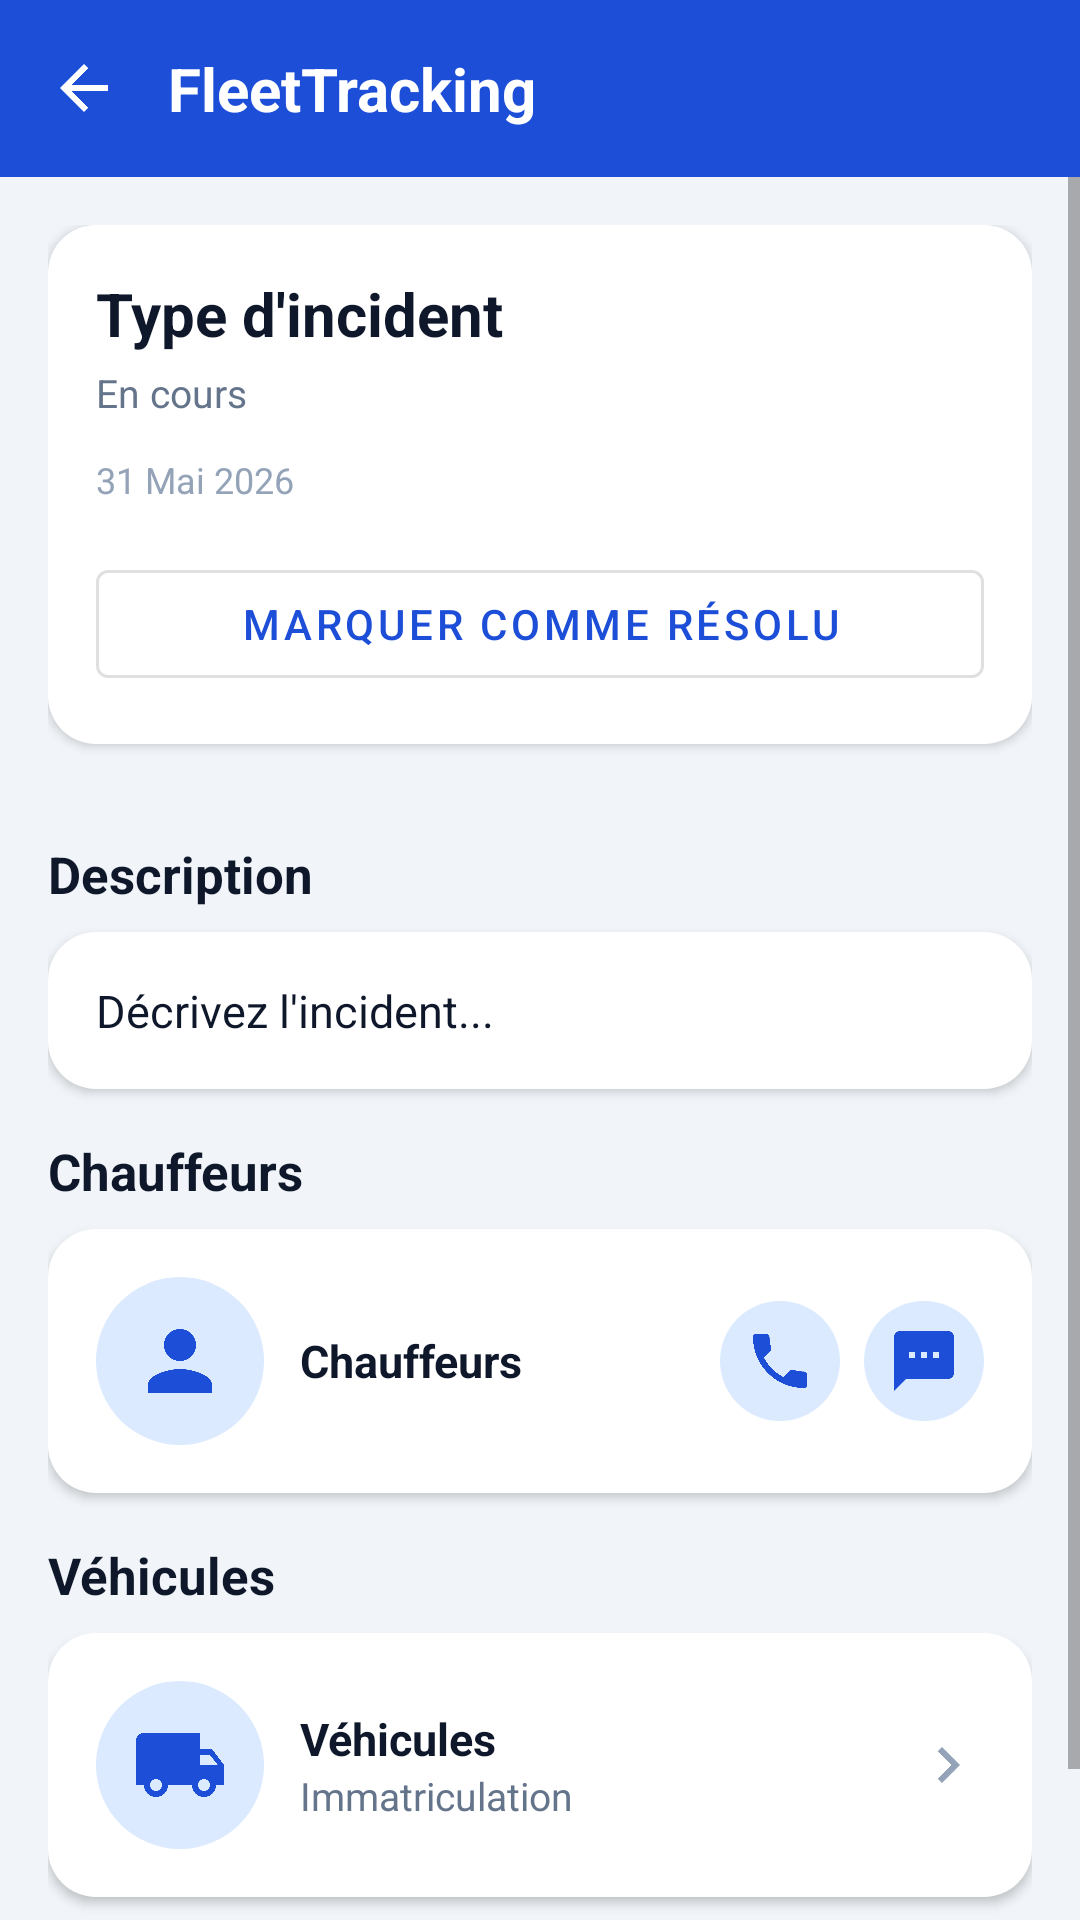

Named icons in this screenshot (1080w x 1920h) and their centers, point (x, y):
Appeler: point (780, 1361)
chevron right: point (949, 1765)
person: point (180, 1361)
Retour: point (84, 88)
SMS: point (924, 1361)
truck: point (180, 1765)
